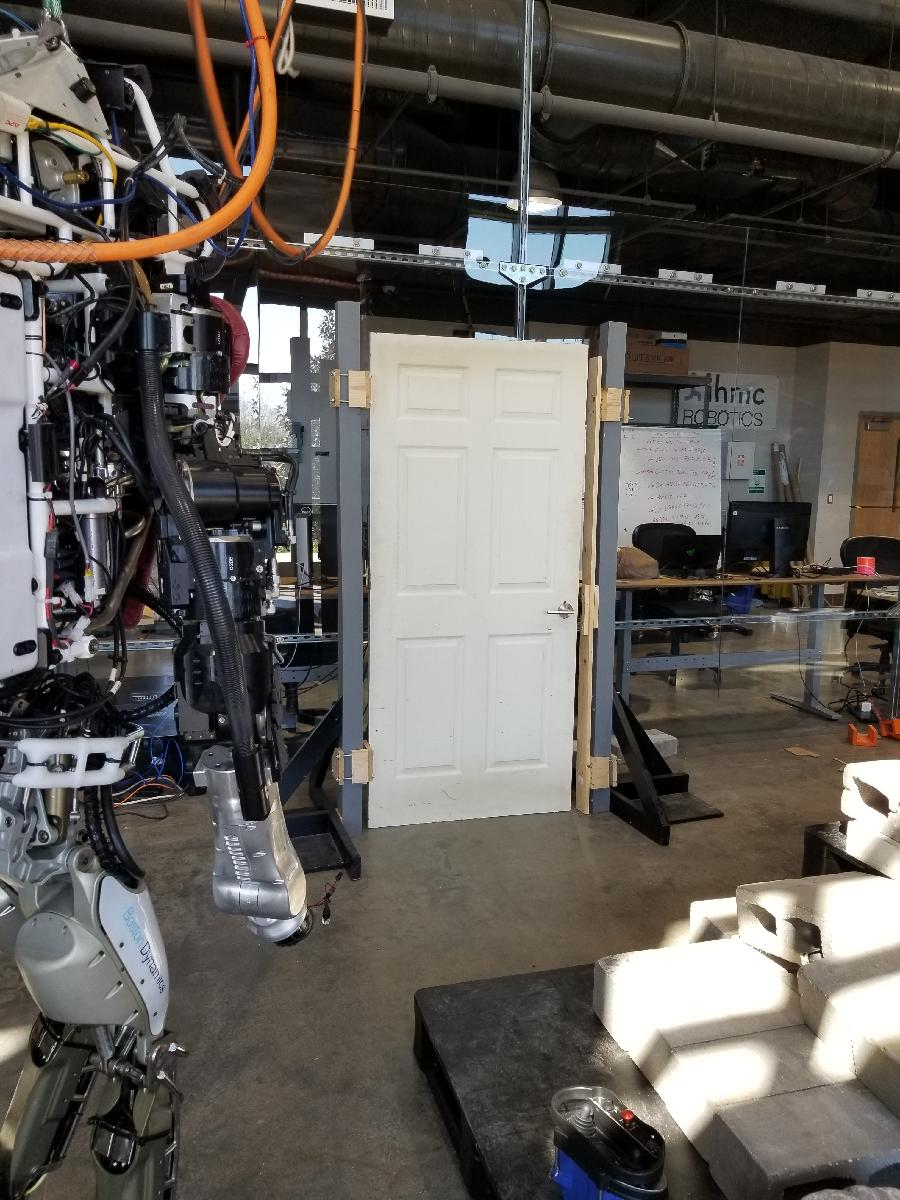door: (366, 328, 590, 836)
doorHandle: (545, 598, 584, 631)
